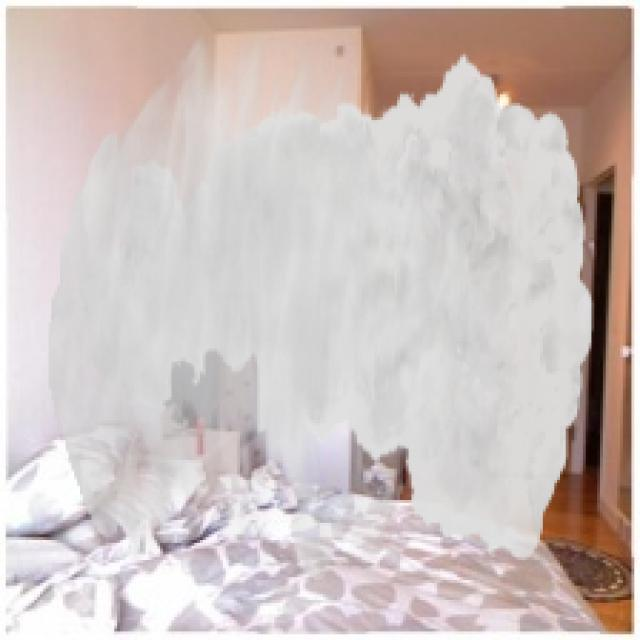Smoke: (48, 31, 594, 580)
